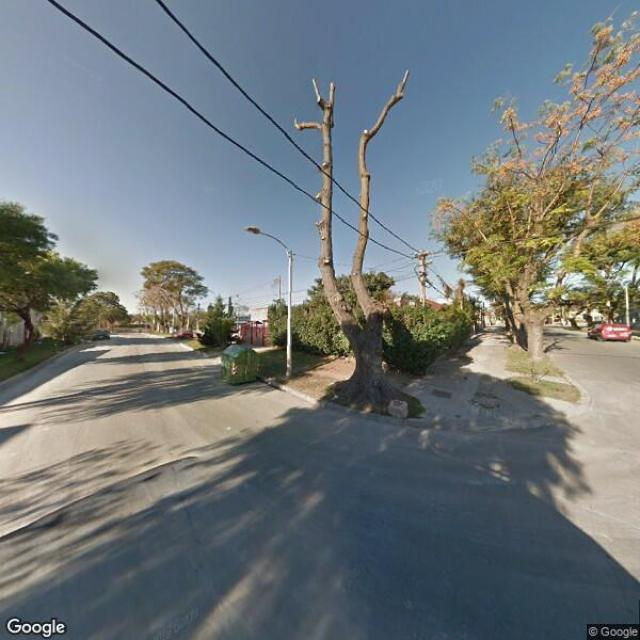garbage container: (215, 338, 270, 396)
